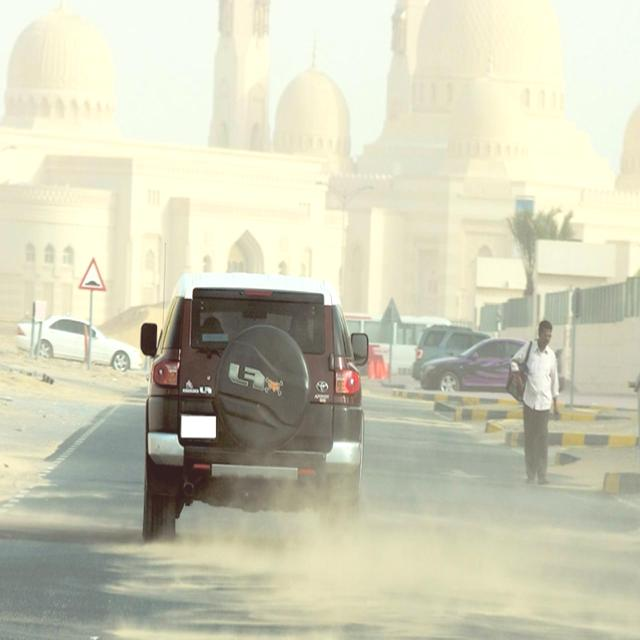Car: (142, 269, 370, 538)
